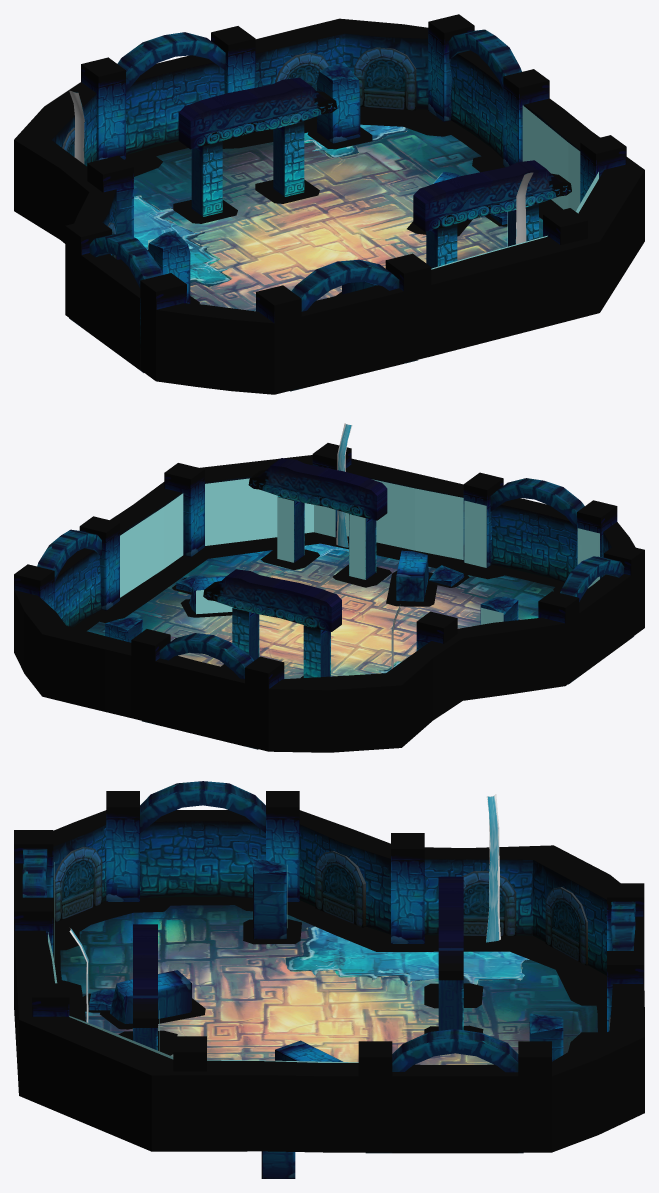
The model's file is Dungeon_051_Room_003.fbx.
The picture shows the model from 3 angles, top to bottom: view 1: azimuth 30°, elevation 25°; view 2: azimuth 150°, elevation 25°; view 3: azimuth 270°, elevation 25°; orthographic projection. The views are drawn at different scales.
Parts seen in each view (by area): view 1: Dun_051_Room_003_Wall, Dun_051_Room_003, Dun_051_Room_003_Ground, Dun_051_Door_002 (×4), Dun_051_Obj03_Gate, Dun_051_Door_002_Arch (×4), Dun_051_shadow, Dun_051_Room_003_GroundWater_01_Terikaeshi, Dun_051_Obj01_Pillar, Dun_051_Obj03_Gate_Shadow, Dun_051_Water01_Tak_A2, Dun_011_Door_002_shadow (+1 smaller); view 2: Dun_051_Room_003_Wall, Dun_051_Room_003, Dun_051_Room_003_GroundWater_01_Terikaeshi, Dun_051_Door_002 (×4), Dun_051_Room_003_Ground, Dun_051_Obj03_Gate, Dun_051_Door_002_Arch (×4), Dun_051_shadow, Dun_051_Obj02_Pillar, Dun_051_Water01_Tak_A1, Dun_051_Obj02_Pillar_Shadow, Dun_051_Obj01_Pillar (+1 smaller); view 3: Dun_051_Room_003_Wall, Dun_051_Room_003, Dun_051_Room_003_Ground, Dun_051_Door_002 (×2), Dun_051_shadow, Dun_051_Door_002_Arch (×4), Dun_051_Obj03_Gate, Dun_051_Obj02_Pillar, Dun_051_Water01_Tak_A1, Dun_051_Obj01_Pillar, Dun_051_Obj03_Gate_Shadow, Dun_011_Door_002_shadow (+2 smaller).
Boxes of the visible parts, x1,y1,x2,y2 form: Dun_051_Room_003_Wall: (14, 18, 644, 394); Dun_051_Room_003: (62, 14, 626, 394); Dun_051_Room_003_Ground: (69, 128, 542, 391); Dun_051_Door_002 (×4): (81, 50, 503, 388); Dun_051_Obj03_Gate: (178, 77, 337, 216); Dun_051_Door_002_Arch (×4): (89, 29, 521, 311); Dun_051_shadow: (118, 106, 562, 368); Dun_051_Room_003_GroundWater_01_Terikaeshi: (148, 105, 598, 269); Dun_051_Obj01_Pillar: (317, 62, 360, 143); Dun_051_Obj03_Gate_Shadow: (173, 179, 319, 223); Dun_051_Water01_Tak_A2: (69, 91, 533, 244); Dun_011_Door_002_shadow: (442, 120, 503, 163); Dun_051_Room_003_Wall: (14, 455, 635, 752); Dun_051_Room_003: (14, 443, 644, 751); Dun_051_Room_003_GroundWater_01_Terikaeshi: (120, 478, 599, 624); Dun_051_Door_002 (×4): (54, 498, 631, 746); Dun_051_Room_003_Ground: (87, 550, 633, 749); Dun_051_Obj03_Gate: (203, 569, 341, 677); Dun_051_Door_002_Arch (×4): (37, 478, 624, 679); Dun_051_shadow: (100, 532, 561, 622); Dun_051_Obj02_Pillar: (396, 550, 464, 601); Dun_051_Water01_Tak_A1: (336, 423, 399, 668); Dun_051_Obj02_Pillar_Shadow: (386, 571, 469, 606); Dun_051_Obj01_Pillar: (105, 617, 142, 642); Dun_051_Room_003_Wall: (14, 810, 644, 1152); Dun_051_Room_003: (14, 791, 644, 1178); Dun_051_Room_003_Ground: (60, 905, 597, 1153); Dun_051_Door_002 (×2): (140, 810, 518, 1153); Dun_051_shadow: (53, 898, 606, 1055); Dun_051_Door_002_Arch (×4): (22, 781, 635, 1072); Dun_051_Obj03_Gate: (438, 876, 463, 1030); Dun_051_Obj02_Pillar: (89, 970, 191, 1023); Dun_051_Water01_Tak_A1: (70, 794, 500, 1022); Dun_051_Obj01_Pillar: (529, 1013, 563, 1061); Dun_051_Obj03_Gate_Shadow: (424, 983, 483, 1033); Dun_011_Door_002_shadow: (140, 897, 252, 905).
Size of what is drawn, in the model's own units: 15 by 5.32 by 15.02.
